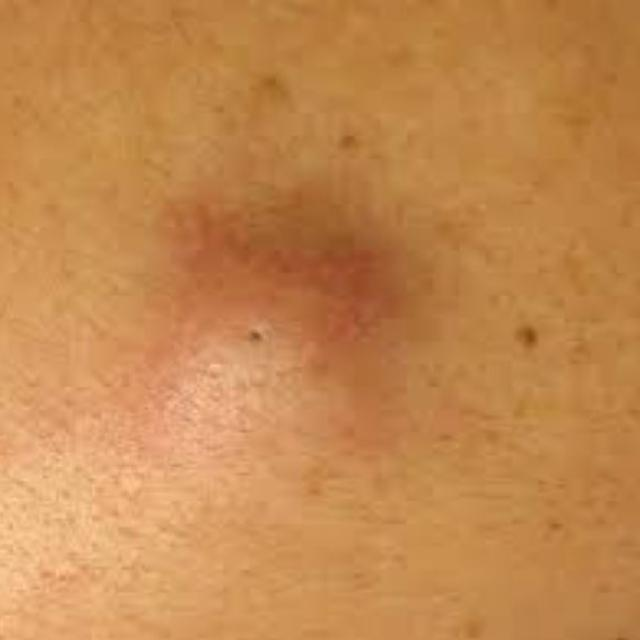nodule: (109, 161, 481, 519)
